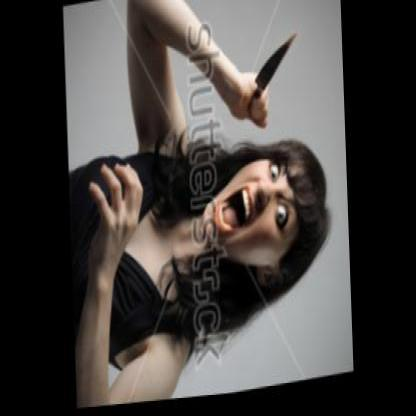knife: (243, 27, 305, 134)
